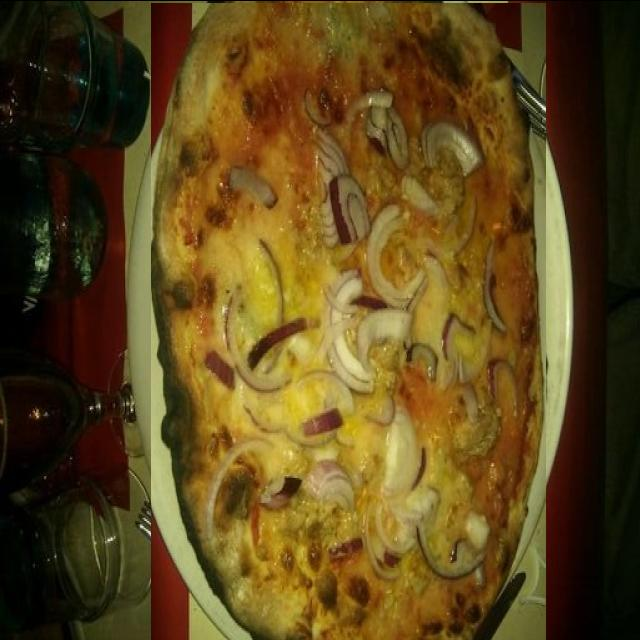pizza: (151, 2, 546, 640)
